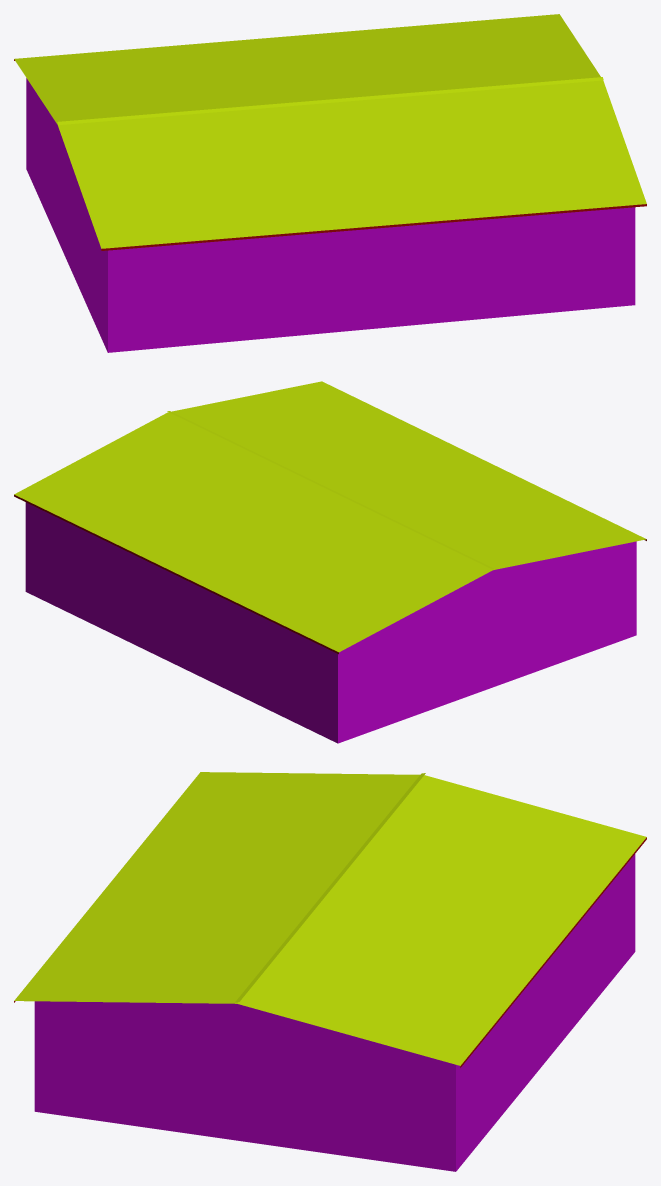
File: bgj_93.glb
3 views of the same model, one above another, from view 1: azimuth 30°, elevation 25°; view 2: azimuth 150°, elevation 25°; view 3: azimuth 270°, elevation 25° (orthographic). The views are drawn at different scales.
Visible parts, largest first — view 1: bgj_93; view 2: bgj_93; view 3: bgj_93.
Boxes of the visible parts, x1,y1,x2,y2 form: bgj_93: (14, 14, 646, 352); bgj_93: (14, 381, 646, 743); bgj_93: (14, 772, 646, 1171).
Size of the model in its own units: 33.06 by 7.52 by 30.09.
